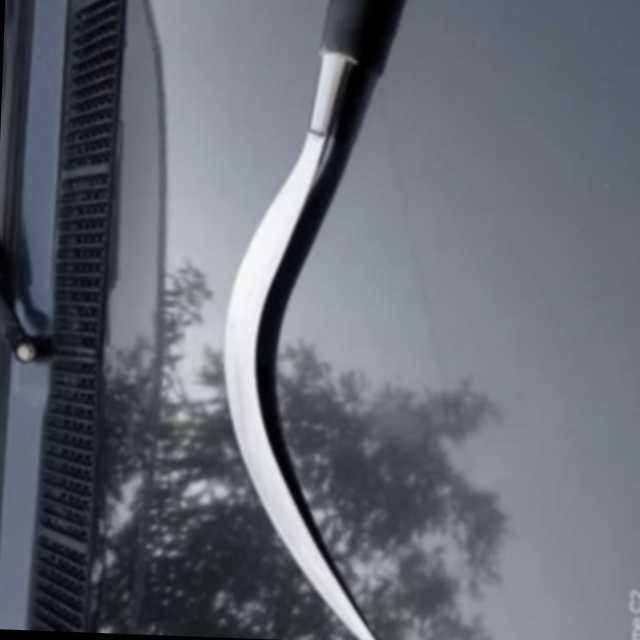Sharp-Object: (197, 0, 431, 640)
